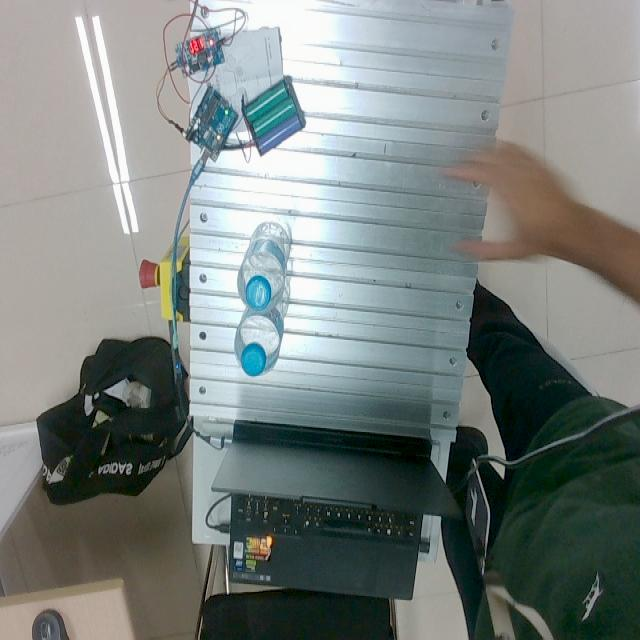lavie: (233, 277, 290, 379), (238, 222, 290, 314)
